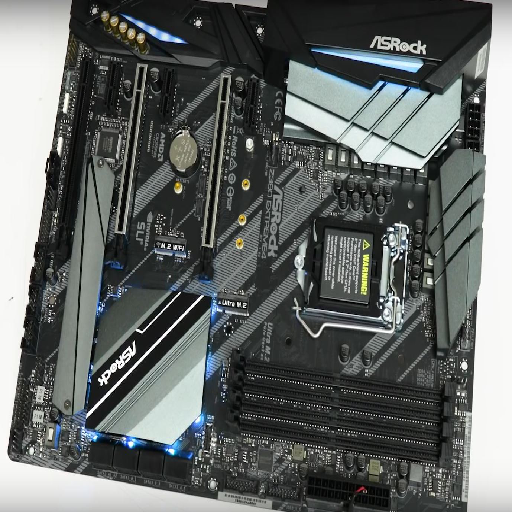CPU: (295, 217, 411, 331)
GPU: (102, 61, 150, 270), (194, 70, 234, 282)
MOTHERBOARD: (8, 1, 493, 512)
RAM: (224, 347, 458, 471)
SSD: (152, 229, 193, 263), (213, 289, 252, 317)
